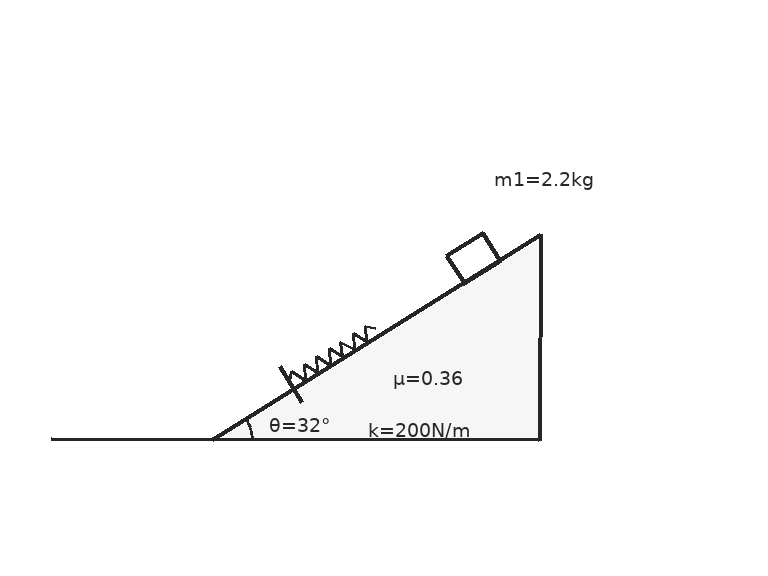block: (444, 230, 503, 285)
ramp: (210, 233, 542, 442)
spring: (287, 324, 377, 383)
